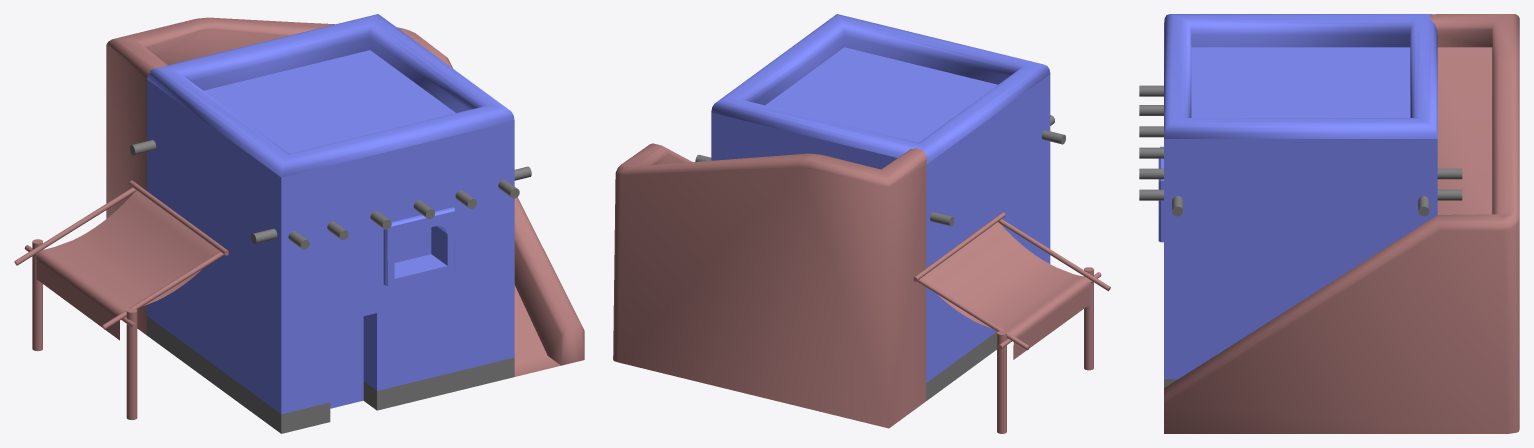
Rendered from House.FBX.
The picture shows the model from 3 angles, left to right: view 1: azimuth 30°, elevation 25°; view 2: azimuth 150°, elevation 25°; view 3: azimuth 270°, elevation 25°; orthographic projection. The views are drawn at different scales.
Parts seen in each view (by area): view 1: Phase2_Walls, Phase3_Stairs, Phase1_Foundation; view 2: Phase3_Stairs, Phase2_Walls, Phase1_Foundation; view 3: Phase2_Walls, Phase3_Stairs, Phase1_Foundation.
Boxes of the visible parts, x1,y1,x2,y2 form: Phase2_Walls: (147, 14, 514, 414); Phase3_Stairs: (14, 17, 584, 419); Phase1_Foundation: (130, 140, 531, 433); Phase3_Stairs: (613, 143, 1110, 433); Phase2_Walls: (711, 14, 1050, 382); Phase1_Foundation: (695, 115, 1065, 400); Phase2_Walls: (1158, 14, 1437, 379); Phase3_Stairs: (1164, 14, 1519, 433); Phase1_Foundation: (1139, 85, 1462, 387).
Bounding box in the file's own units: 911 × 550 × 695.
